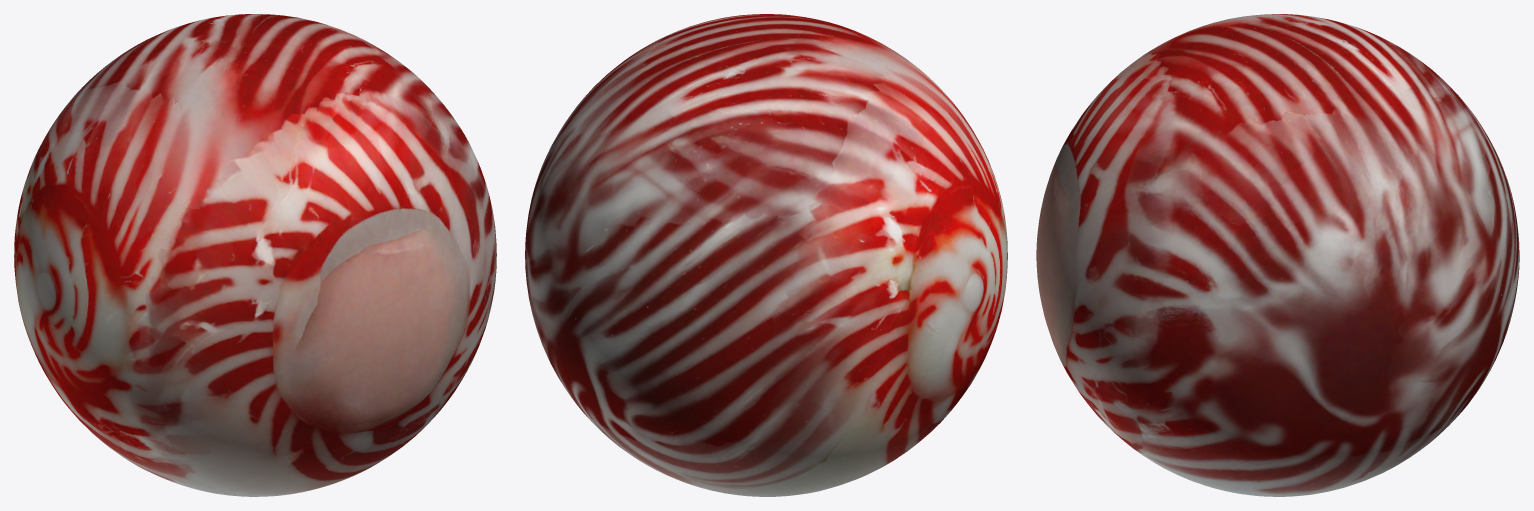
File: ball.glb
3 views of the same model, side by side, from view 1: azimuth 30°, elevation 25°; view 2: azimuth 150°, elevation 25°; view 3: azimuth 270°, elevation 25° (orthographic).
Size of the model in its own units: 2 by 2 by 2.
Materials: 1 (1 with a texture image).
